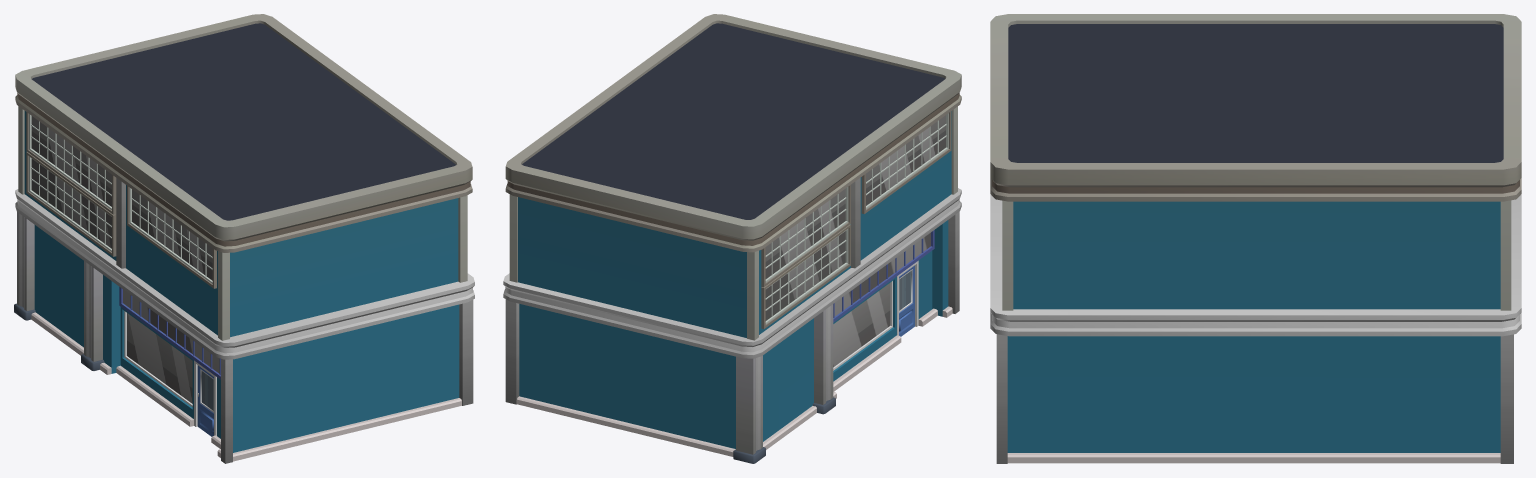
Rendered from Building_11_3_A.fbx.
3 renders of one model, left to right at view 1: azimuth 30°, elevation 25°; view 2: azimuth 150°, elevation 25°; view 3: azimuth 270°, elevation 25°, orthographic. The views are drawn at different scales.
Parts seen in each view (by area): view 1: Building_11_3_A; view 2: Building_11_3_A; view 3: Building_11_3_A.
Part boxes in pixels (x1,y1,x2,y2): Building_11_3_A: (14, 14, 474, 463); Building_11_3_A: (503, 14, 961, 463); Building_11_3_A: (990, 14, 1521, 463).
Bounding box in the file's own units: 814 × 715 × 1163.
